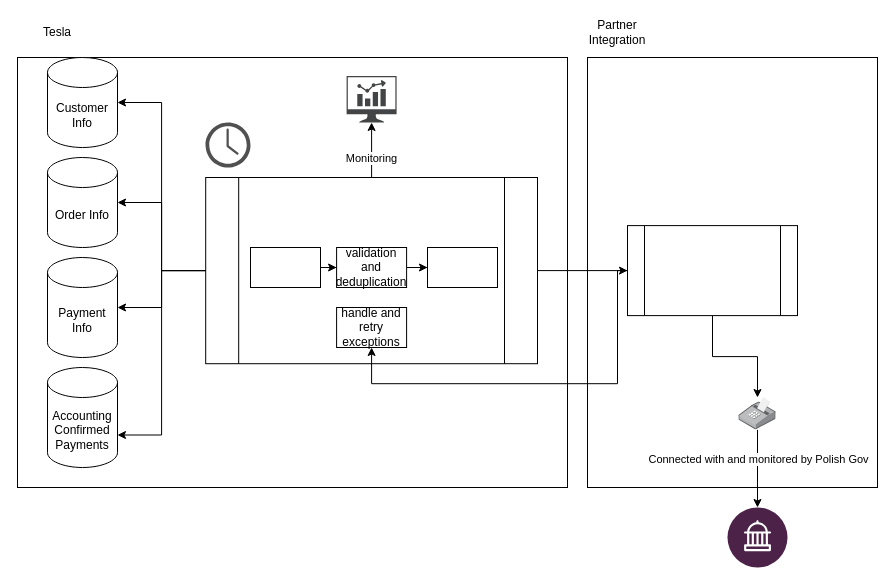
Image size: 895x584. Some labels were removed from this diagram. The centre of each missing label's shape, as x and y in pixels:
"Application of required format" goes at [462,267].
"join sources" goes at [285,267].
"validate data, handle exceptions and prepare for print" goes at [712,270].
